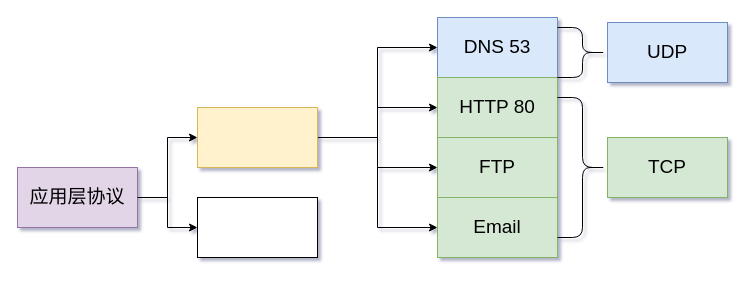
Image size: 751x281. Some labels were removed from this diagram. The shapes that lost their labels are listed below. From the top down, each one's centre as x and y in pixels, then its label:
(x=257, y=137): C/S模型
(x=257, y=227): P2P模型
